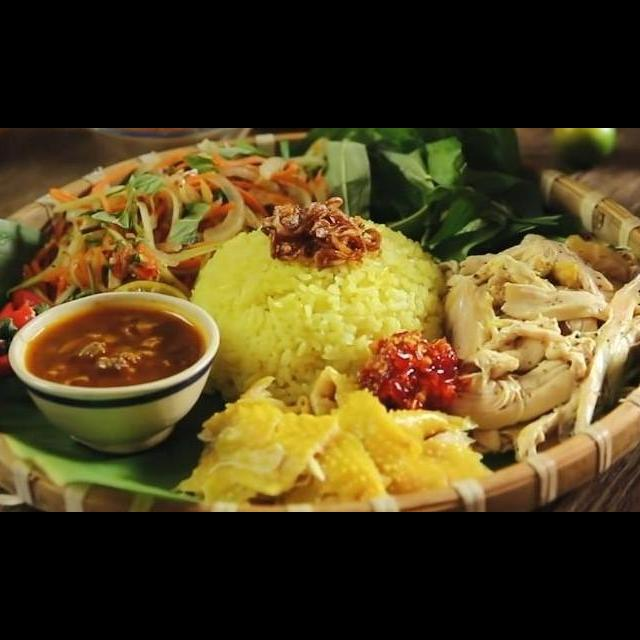com: (185, 206, 456, 423)
com ga: (6, 182, 640, 512)
rau ram: (310, 129, 574, 268)
thit ga: (431, 233, 640, 465), (166, 363, 498, 509)
